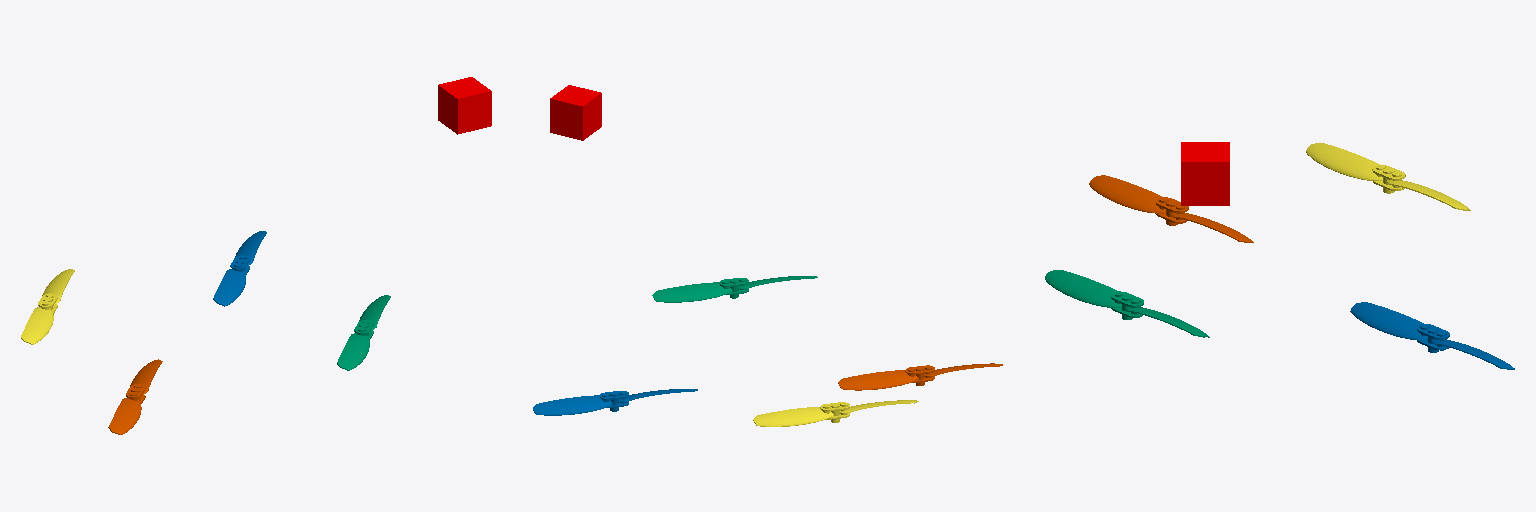
The robot description file, URDF, robot "dron":
<?xml version="1.0"?>
<robot name="dron">
    <gazebo>
        <static>false</static>
    </gazebo>
<!-- 
    <link name="world_link"/>

    <joint name="world_to_base" type="fixed">
        <parent link="world_link"/>
        <child link="base_link"/>
        <origin xyz="0 0 0" rpy="0 0 0"/>
    </joint> -->

    <link name="base_link"/>

    <link name="dron_link">
        <visual>
            <origin rpy="0 0 0" xyz="0 0 0"/>
            <geometry>
                <mesh filename="package://visualizacion/models/dron/meshes/djimini4pro.obj" scale=" 2 2 2"/>
            </geometry>
        </visual>
        <collision>
            <geometry>
                <box size="0.1 0.1 0.1"/>
            </geometry>
        </collision>
        <inertial>
            <mass value="0.1"/> <inertia ixx="0.001" ixy="0" ixz="0" iyy="0.001" iyz="0" izz="0.001"/>
        </inertial>
    </link>

    <joint name="base_to_dron" type="fixed">
        <parent link="base_link"/>
        <child link="dron_link"/>
        <origin xyz="0 0 0" rpy="0 0 0"/>
    </joint>

    <link name="propela_1">
        <visual>
            <origin rpy="0 0 0" xyz="-0.155 0.068 -0.003"/>
            <geometry>
                <mesh filename="package://visualizacion/models/propela/meshes/propela.obj" scale=" 2 2 2"/>
            </geometry>
        </visual>
        <collision>
            <geometry>
                <box size="0.1 0.1 0.1"/>
            </geometry>
        </collision>
        <inertial>
            <mass value="0.01"/> <inertia ixx="0.001" ixy="0" ixz="0" iyy="0.001" iyz="0" izz="0.001"/>
        </inertial>
    </link>

    <link name="propela_2">
        <visual>
            <origin rpy="0 0 0" xyz="-0.155 0.068 -0.003"/>
            <geometry>
                <mesh filename="package://visualizacion/models/propela/meshes/propela.obj" scale=" 2 2 2"/>
            </geometry>
        </visual>
        <collision>
            <geometry>
                <box size="0.1 0.1 0.1"/>
            </geometry>
        </collision>
        <inertial>
            <mass value="0.01"/> <inertia ixx="0.001" ixy="0" ixz="0" iyy="0.001" iyz="0" izz="0.001"/>
        </inertial>
    </link>

    <link name="propela_3">
        <visual>
            <origin rpy="0 0 0" xyz="-0.155 0.114 -0.04"/>
            <geometry>
                <mesh filename="package://visualizacion/models/propela/meshes/propela.obj" scale=" 2 2 2"/>
            </geometry>
        </visual>
        <collision>
            <geometry>
                <box size="0.1 0.1 0.1"/>
            </geometry>
        </collision>
        <inertial>
            <mass value="0.01"/> <inertia ixx="0.001" ixy="0" ixz="0" iyy="0.001" iyz="0" izz="0.001"/>
        </inertial>
    </link>

    <link name="propela_4">
        <visual>
            <origin rpy="0 0 0" xyz="-0.155 0.114 -0.04"/>
            <geometry>
                <mesh filename="package://visualizacion/models/propela/meshes/propela.obj" scale=" 2 2 2"/>
            </geometry>
        </visual>
        <collision>
            <geometry>
                <box size="0.1 0.1 0.1"/>
            </geometry>
        </collision>
        <inertial>
            <mass value="0.01"/> <inertia ixx="0.001" ixy="0" ixz="0" iyy="0.001" iyz="0" izz="0.001"/>
        </inertial>
    </link>

    <link name="camera_link">
        <visual>
            <origin rpy="0.0 0.0 0.0" xyz="-0.65 0.1 -0.17"/>
            <geometry>
                <box size="0.05 0.05 0.05"/>
            </geometry>
            <material name="red">
                <color rgba="1 0 0 1"/>
            </material>
        </visual>
        <inertial>
            <mass value="0.1"/>
            <inertia ixx="0.0001" ixy="0" ixz="0" iyy="0.0001" iyz="0" izz="0.0001"/>
        </inertial>
    </link>

    <joint name="dron_to_camera" type="fixed">
        <parent link="dron_link"/>
        <child link="camera_link"/>
        <origin xyz="1.0 0 0.5" rpy="0 0 0"/> 
    </joint>

    <joint name="dron_to_propela1" type="continuous">
        <parent link="dron_link"/>
        <child link="propela_1"/>
        <origin xyz="0.155 -0.135 0" rpy="0 0 0"/> 
        <axis xyz="0 0 1"/>
    </joint>

    <joint name="dron_to_propela2" type="continuous">
        <parent link="dron_link"/>
        <child link="propela_2"/>
        <origin xyz="-0.155 0.135 0" rpy="0 0 0"/> 
        <axis xyz="0 0 1"/>
    </joint>

    <joint name="dron_to_propela3" type="continuous">
        <parent link="dron_link"/>
        <child link="propela_3"/>
        <origin xyz="0.155 0.135 0" rpy="0 0 0"/> 
        <axis xyz="0 0 1"/>
    </joint>

    <joint name="dron_to_propela4" type="continuous">
        <parent link="dron_link"/>
        <child link="propela_4"/>
        <origin xyz="-0.155 -0.135 0" rpy="0 0 0"/> 
        <axis xyz="0 0 1"/>
    </joint>

    <gazebo reference="camera_link">
        <sensor name="camera" type="camera">
            <pose>0 0 0 0 0 0</pose>
            <always_on>1</always_on>
            <update_rate>30</update_rate>
            <visualize>true</visualize>
            <topic>camera/left</topic>
            <camera>
                <horizontal_fov>1.92</horizontal_fov>
                <image>
                    <width>1920</width>
                    <height>1080</height>
                    <format>R8G8B8</format>
                </image>
                <clip>
                    <near>0.1</near>
                    <far>100</far>
                </clip>
            </camera>
        </sensor>
    </gazebo>

    <gazebo>
        <plugin
            filename="ignition-gazebo-pose-publisher-system"
            name="ignition::gazebo::systems::PosePublisher">
            <publish_link_pose>false</publish_link_pose>
            <publish_model_pose>true</publish_model_pose> <publish_nested_model_pose>false</publish_nested_model_pose>
            <use_pose_vector_msg>false</use_pose_vector_msg>
            <update_frequency>50</update_frequency> 
        </plugin>
        <plugin
            filename="ignition-gazebo-multicopter-control-system"
            name="ignition::gazebo::systems::MulticopterVelocityControl">
            <robotNamespace>dron</robotNamespace>
            <commandSubTopic>cmd_vel</commandSubTopic>
            <enableControl>true</enableControl>
            <comLinkName>base_link</comLinkName>

            <velocityGain>2.0 2.0 2.0</velocityGain>
            <attitudeGain>2.0 2.0 2.0</attitudeGain>
            <angularRateGain>0.5 0.5 0.5</angularRateGain>
    
            <rotorConfiguration>
                <rotor>
                    <jointName>dron_to_propela1</jointName>
                    <forceConstant>8.54858e-06</forceConstant>
                    <momentConstant>0.016</momentConstant>
                    <direction>1</direction> 
                </rotor>
                <rotor>
                    <jointName>dron_to_propela2</jointName>
                    <forceConstant>8.54858e-06</forceConstant>
                    <momentConstant>0.016</momentConstant>
                    <direction>1</direction>
                </rotor>
                <rotor>
                    <jointName>dron_to_propela3</jointName>
                    <forceConstant>8.54858e-06</forceConstant>
                    <momentConstant>0.016</momentConstant>
                    <direction>-1</direction>
                </rotor>
                <rotor>
                    <jointName>dron_to_propela4</jointName>
                    <forceConstant>8.54858e-06</forceConstant>
                    <momentConstant>0.016</momentConstant>
                    <direction>-1</direction>
                </rotor>
            </rotorConfiguration>
        </plugin>
    </gazebo>
</robot>

--- What the picture shows (computed from the rendered views, not written in the file) ---
Views: 3 orthographic renders of the robot side by side, from view 1: azimuth 30°, elevation 25°; view 2: azimuth 150°, elevation 25°; view 3: azimuth 270°, elevation 25°.
Model dron with 7 links and 6 joints (4 continuous, 2 fixed), rooted at base_link, posed all joints at 0.
Visible links, largest first — view 1: camera_link, propela_1, propela_2, propela_4, propela_3; view 2: camera_link, propela_2, propela_3, propela_1, propela_4; view 3: camera_link, propela_2, propela_3, propela_1, propela_4.
Boxes of the visible links, x1,y1,x2,y2 form: camera_link: (438,77,491,134); propela_1: (337,295,390,370); propela_2: (21,269,74,344); propela_4: (108,359,162,434); propela_3: (213,231,266,306); camera_link: (550,85,601,140); propela_2: (753,400,918,426); propela_3: (533,389,697,415); propela_1: (652,276,817,302); propela_4: (838,363,1002,390); camera_link: (1181,142,1229,205); propela_2: (1306,143,1470,210); propela_3: (1350,302,1514,369); propela_1: (1045,270,1209,337); propela_4: (1089,175,1253,242).
Size in the robot's own frame: 0.6106 by 0.4866 by 0.317 metres.
Meshes: 2 distinct files referenced, 4 mesh visuals loaded (1 OBJ); not drawn: 1 (reference not matched to a file when rendering).
